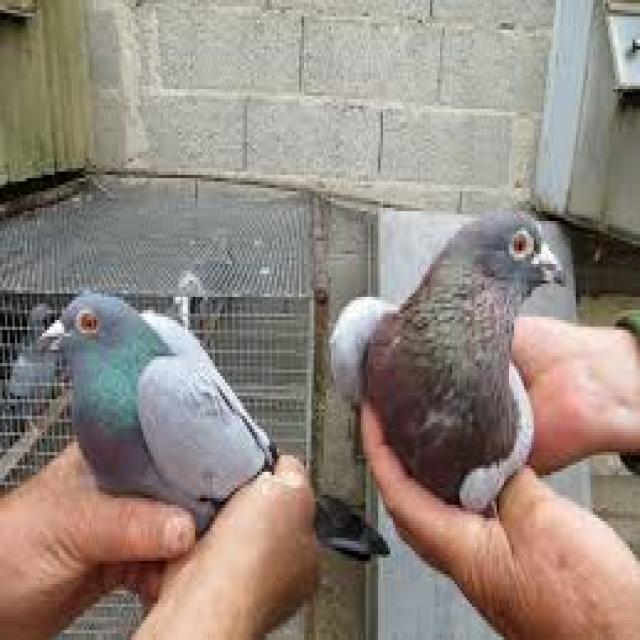pigeon: (334, 193, 596, 538), (36, 255, 324, 544)
